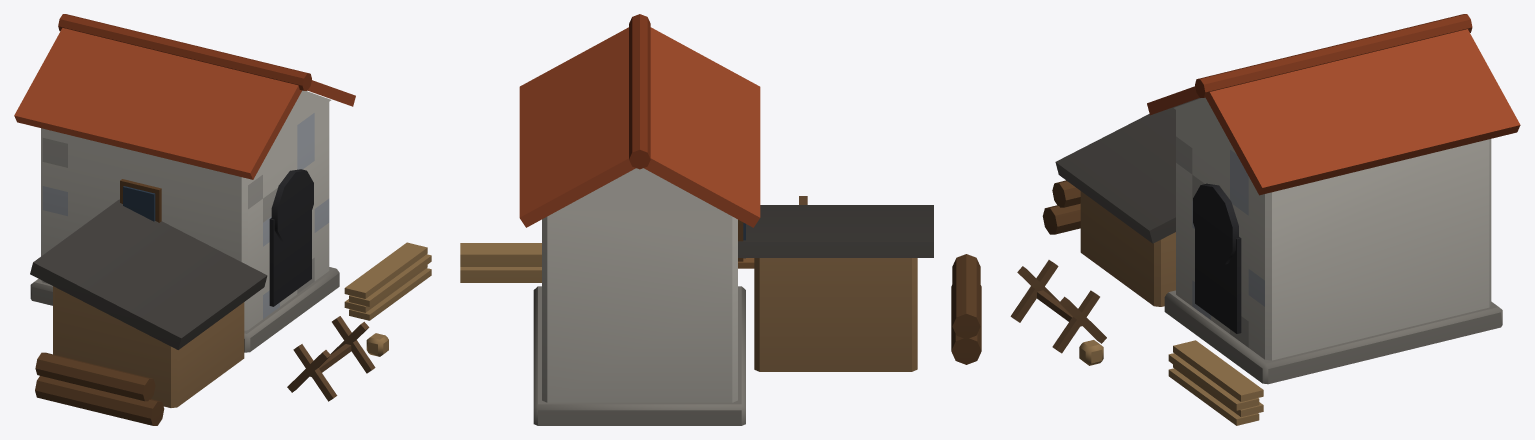
File: building_4.glb
The picture shows the model from 3 angles, left to right: view 1: azimuth 30°, elevation 25°; view 2: azimuth 150°, elevation 25°; view 3: azimuth 270°, elevation 25°; orthographic projection. The views are drawn at different scales.
Parts seen in each view (by area): view 1: building_4; view 2: building_4; view 3: building_4.
Boxes of the visible parts, x1,y1,x2,y2 form: building_4: (14, 14, 431, 425); building_4: (460, 14, 981, 425); building_4: (1010, 14, 1520, 425).
Bounding box in the file's own units: 1.03 × 0.5792 × 0.9757.
